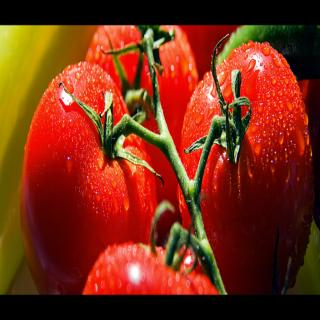tomato: (176, 33, 317, 295), (22, 58, 160, 302), (85, 21, 199, 221), (80, 201, 218, 297)
